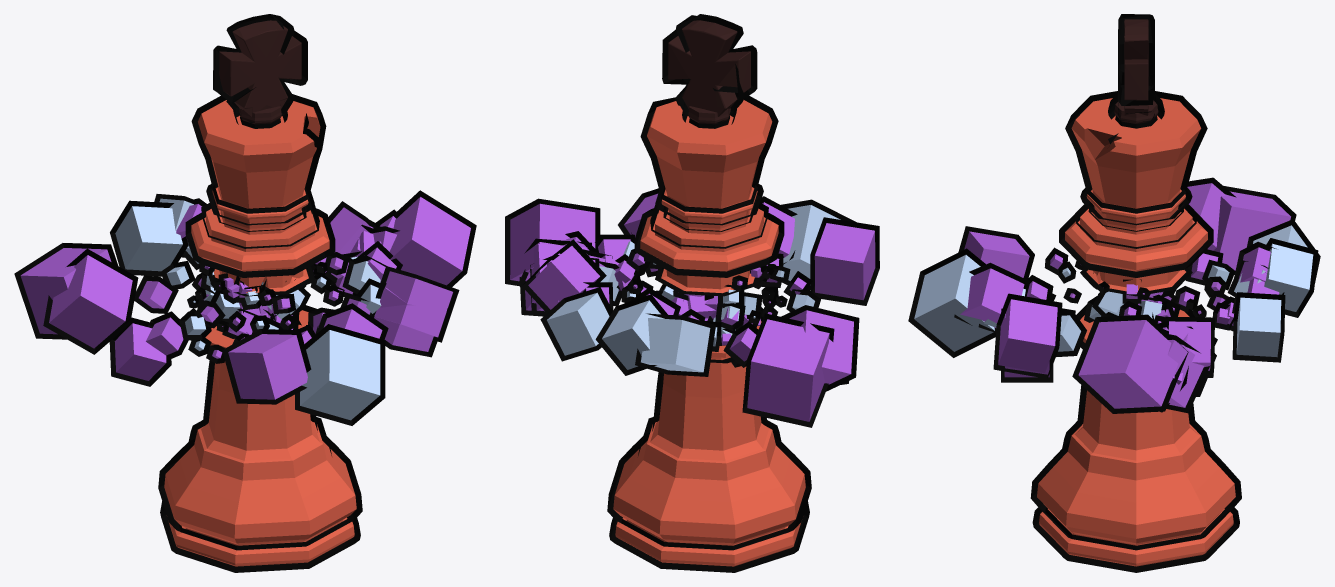
Rendered from boss_fbx.fbx.
3 renders of one model, left to right at view 1: azimuth 30°, elevation 25°; view 2: azimuth 150°, elevation 25°; view 3: azimuth 270°, elevation 25°, orthographic.
Parts seen in each view (by area): view 1: King; view 2: King; view 3: King.
Boxes of the visible parts, <box> form: King: <box>14,14,476,572</box>; King: <box>505,14,879,572</box>; King: <box>908,14,1320,572</box>.
Size of the model in its own units: 140 by 128 by 176.
